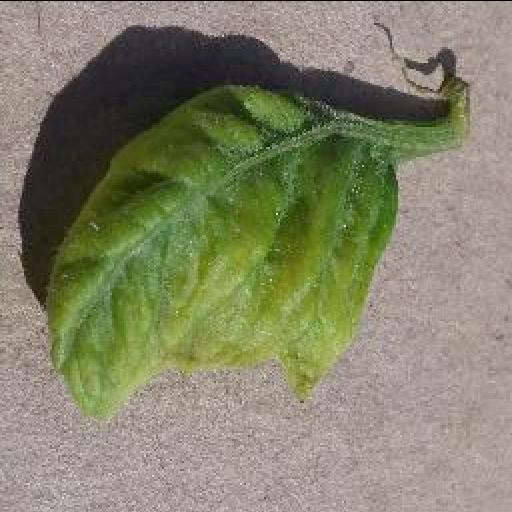disease_tomato: (44, 80, 400, 426)
